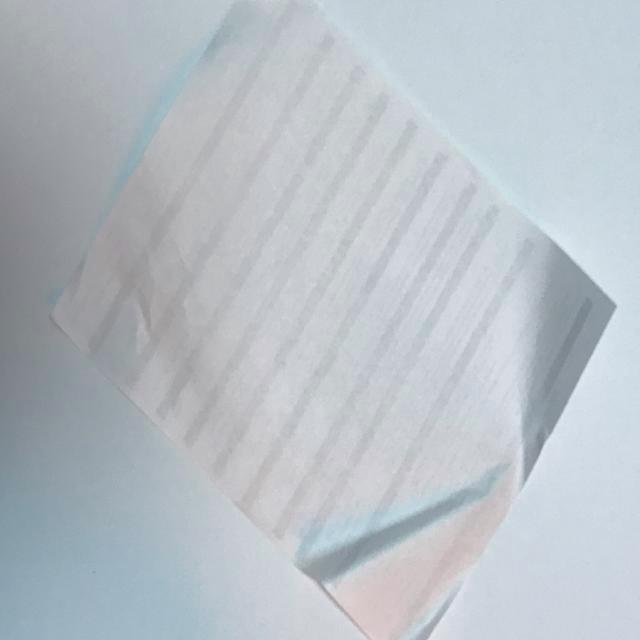paper: (50, 0, 614, 640)
